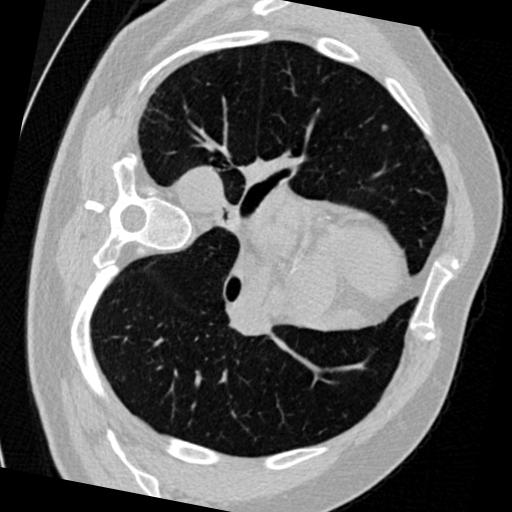nodule: (379, 123, 392, 136)
